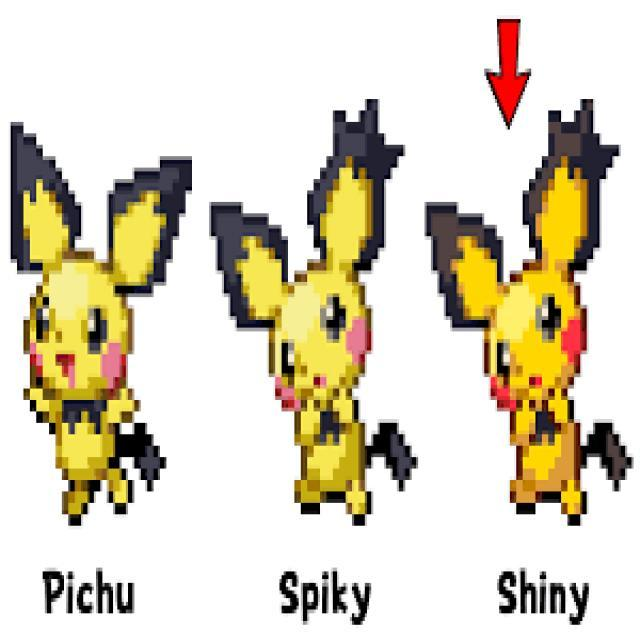pichu: (208, 80, 422, 536), (424, 124, 634, 544)
